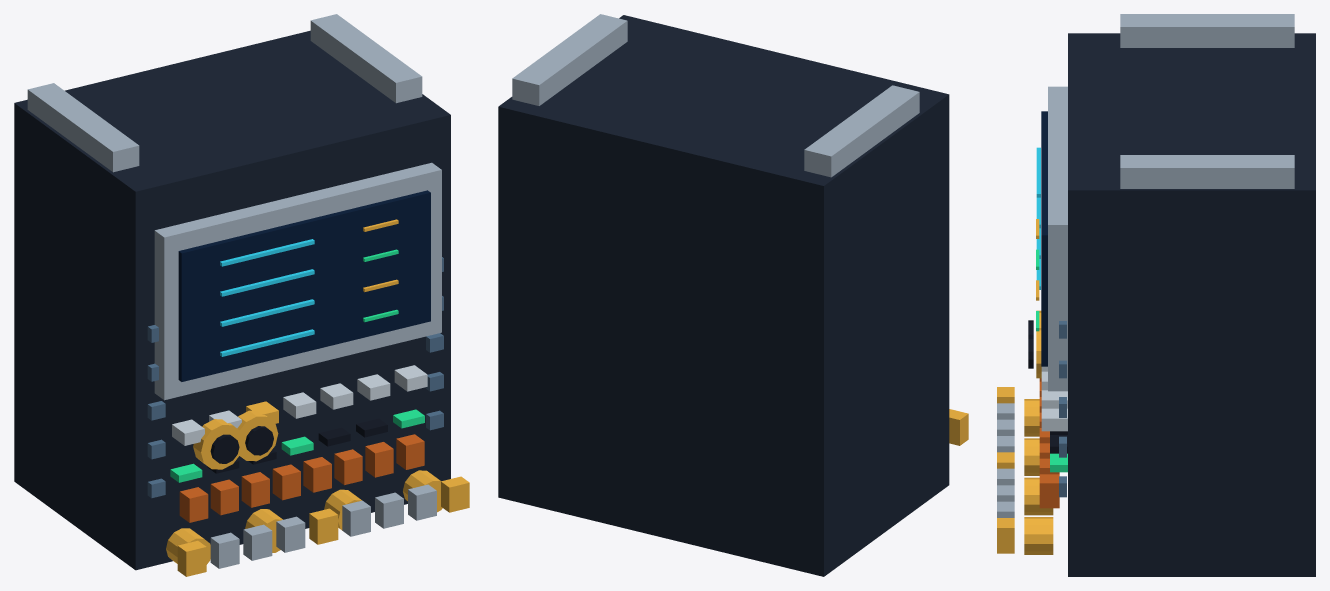
Rendered from 71_L85_Protected5VControlSupply.fbx.
The picture shows the model from 3 angles, left to right: view 1: azimuth 30°, elevation 25°; view 2: azimuth 150°, elevation 25°; view 3: azimuth 270°, elevation 25°; orthographic projection. The views are drawn at different scales.
Parts seen in each view (by area): view 1: L85_Protected5VControlSupply, L85_Protected5VControlSupply_Part_0010, L85_Protected5VControlSupply_Part_0012, L85_Protected5VControlSupply_Part_0011, L85_Protected5VControlSupply_Part_0013; view 2: L85_Protected5VControlSupply; view 3: L85_Protected5VControlSupply.
Part boxes in pixels (x1,y1,x2,y2): L85_Protected5VControlSupply: [14, 14, 469, 576]; L85_Protected5VControlSupply_Part_0010: [193, 419, 243, 469]; L85_Protected5VControlSupply_Part_0012: [237, 410, 278, 461]; L85_Protected5VControlSupply_Part_0011: [210, 434, 239, 463]; L85_Protected5VControlSupply_Part_0013: [245, 426, 273, 455]; L85_Protected5VControlSupply: [498, 14, 968, 576]; L85_Protected5VControlSupply: [997, 14, 1315, 576].
Bounding box in the file's own units: 95.88 × 116 × 82.21.
